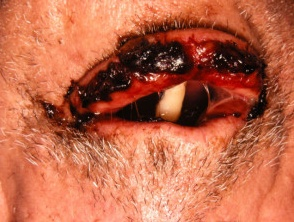SJS-TEN: (17, 0, 282, 167)
